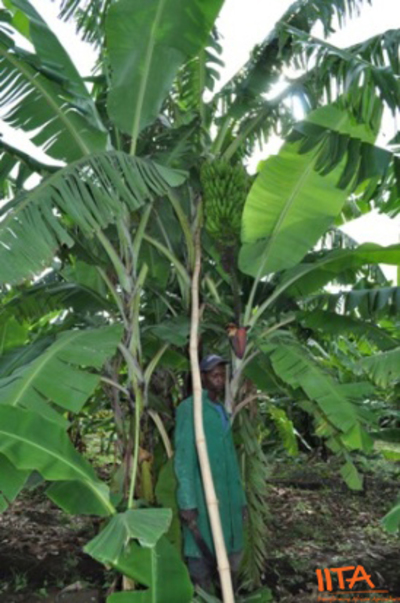bananaHand: (198, 156, 254, 247)
